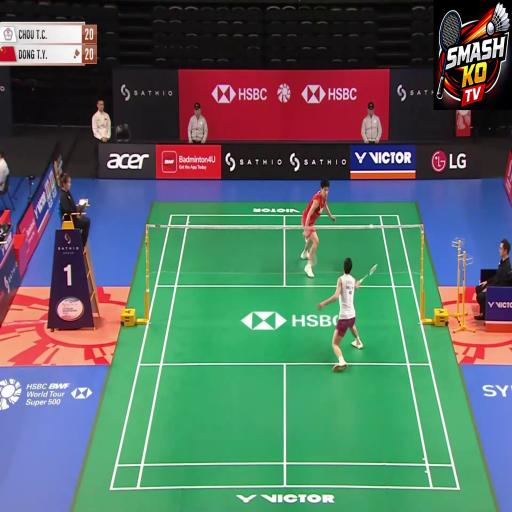player: (297, 167, 333, 268), (328, 267, 362, 361)
